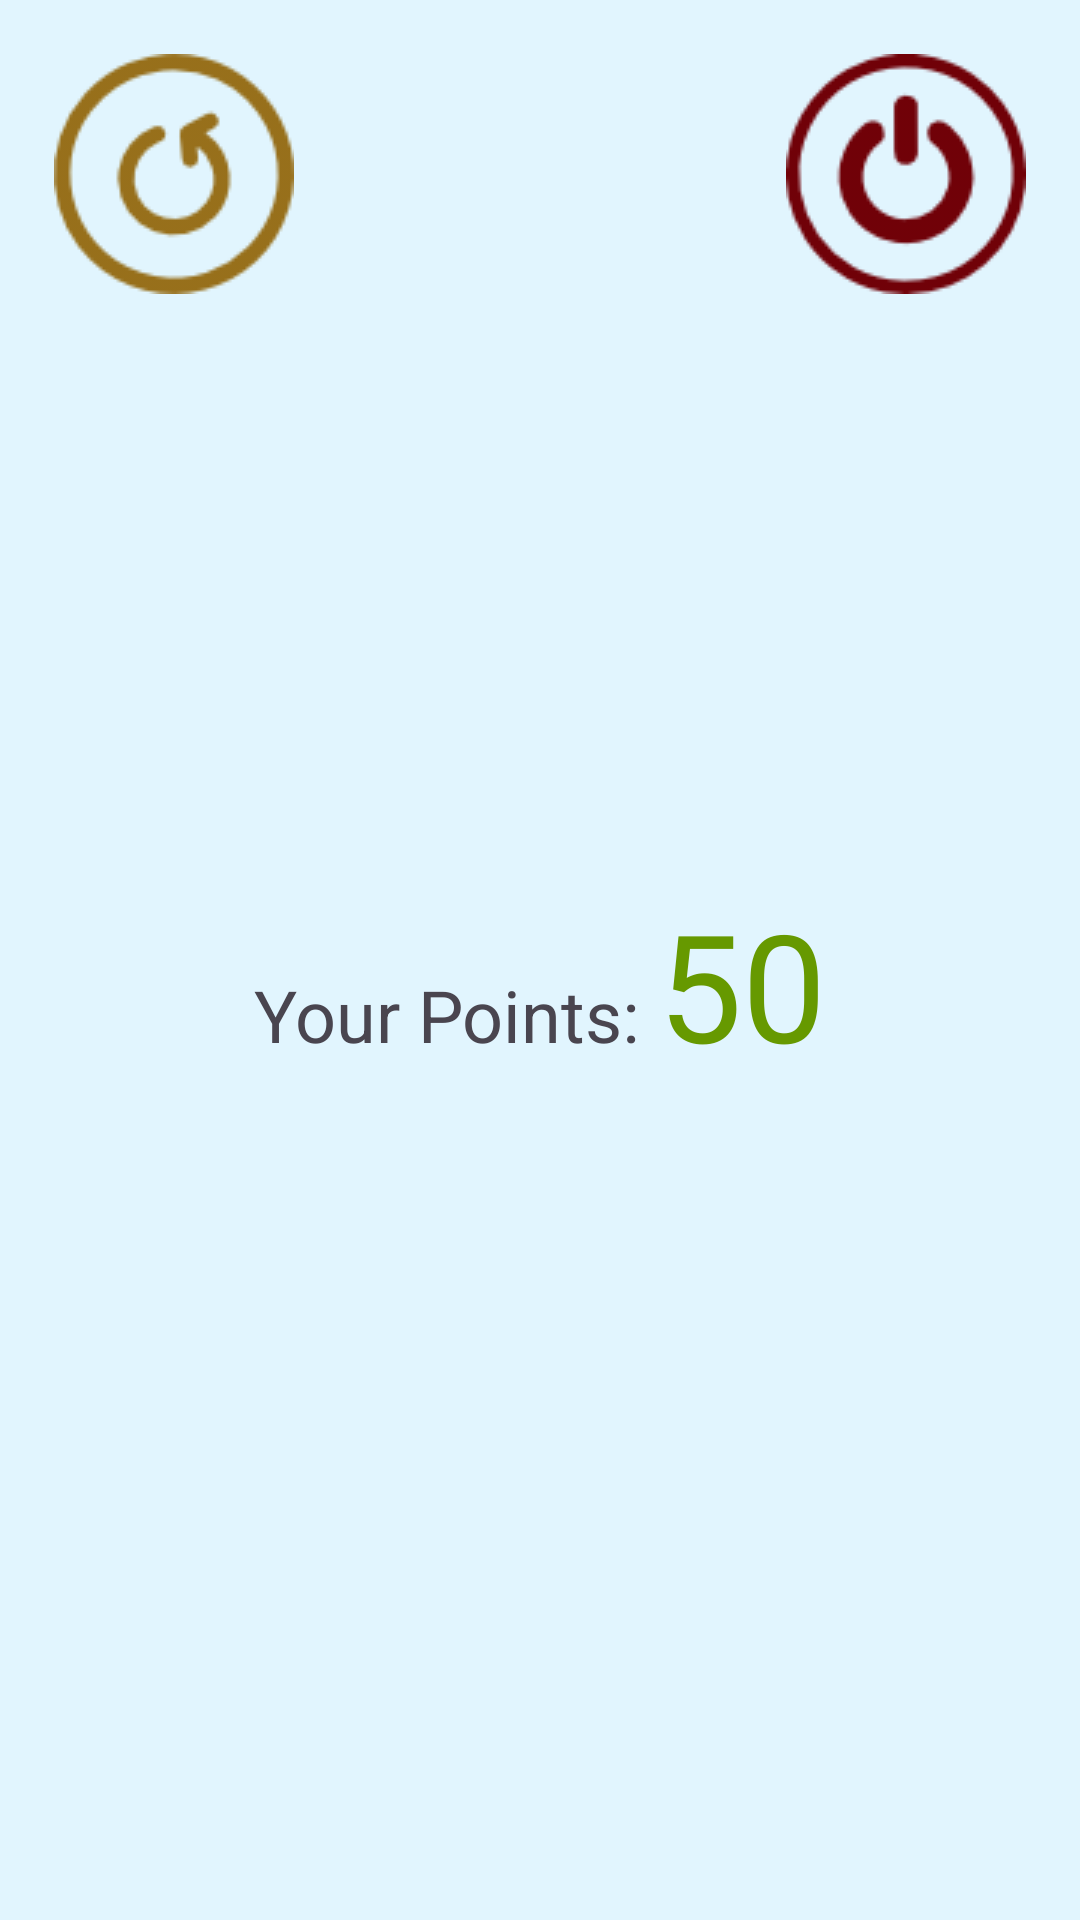

Named icons in this screenshot (1080 x 1920) and their centers, (x=x, y=y):
brickgame exit: (x=906, y=174)
brickgame restart: (x=174, y=174)
